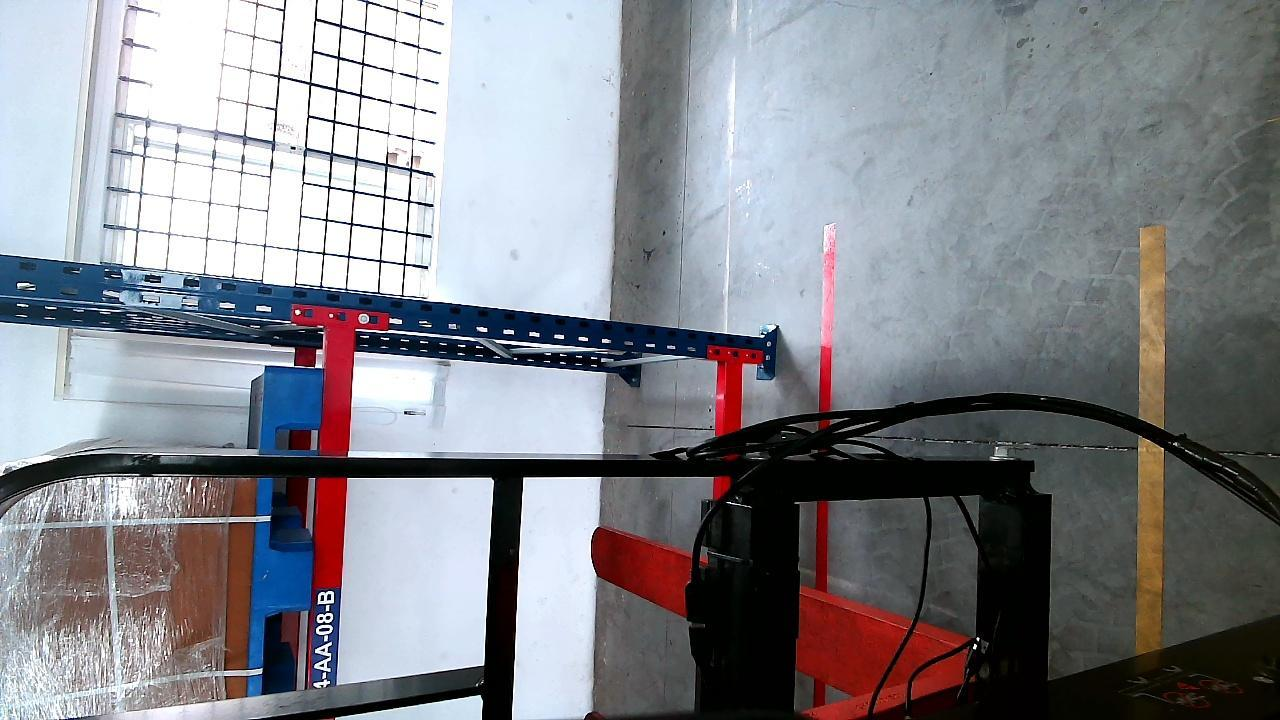red_line: (812, 221, 836, 592)
yellow_line: (1137, 211, 1164, 666)
